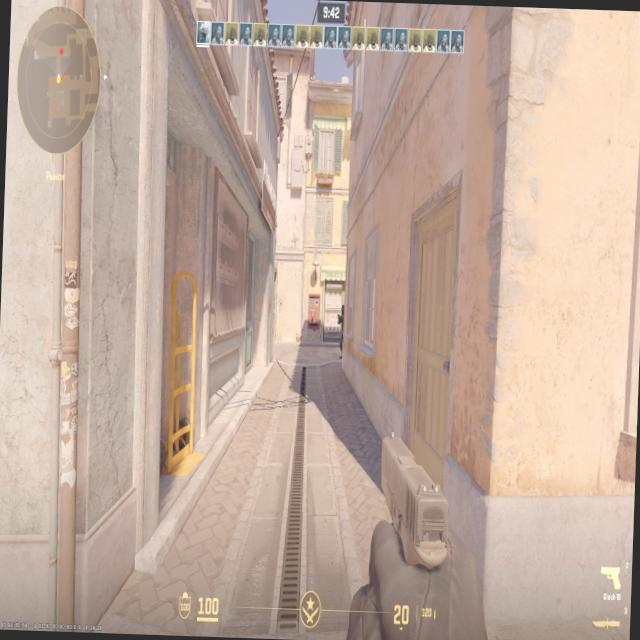CT: (338, 304, 344, 359)
CT_heat: (342, 306, 344, 316)
